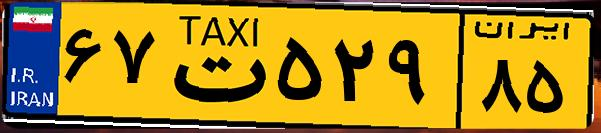2: (330, 28, 385, 110)
5: (270, 28, 330, 110), (525, 38, 570, 115)
6: (57, 26, 110, 100)
7: (110, 28, 158, 98)
8: (475, 38, 525, 113)
9: (385, 28, 445, 110)
ت: (158, 12, 270, 120)
